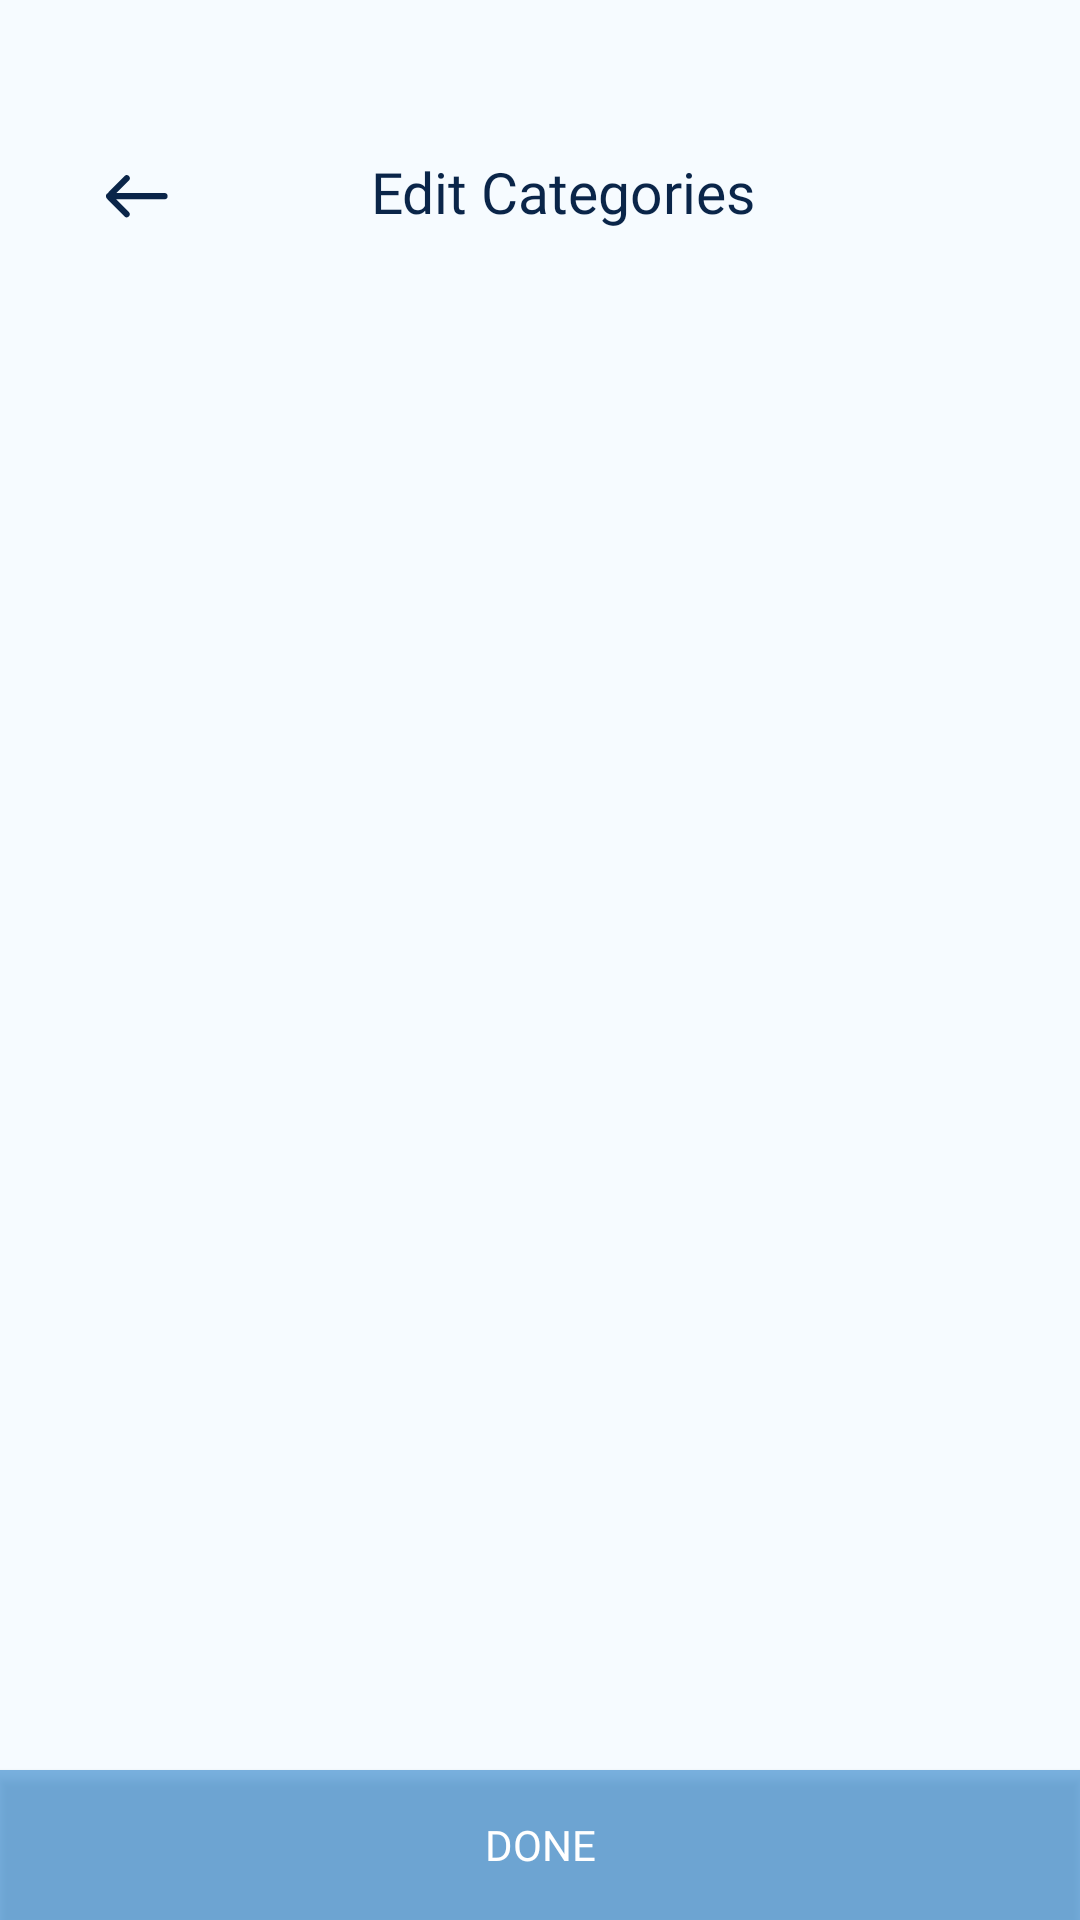

Icon bounding boxes for this 1080w x 1920h phone screenshot, format (x1, y1, x2, y2):
arrow: (106, 175, 168, 218)
